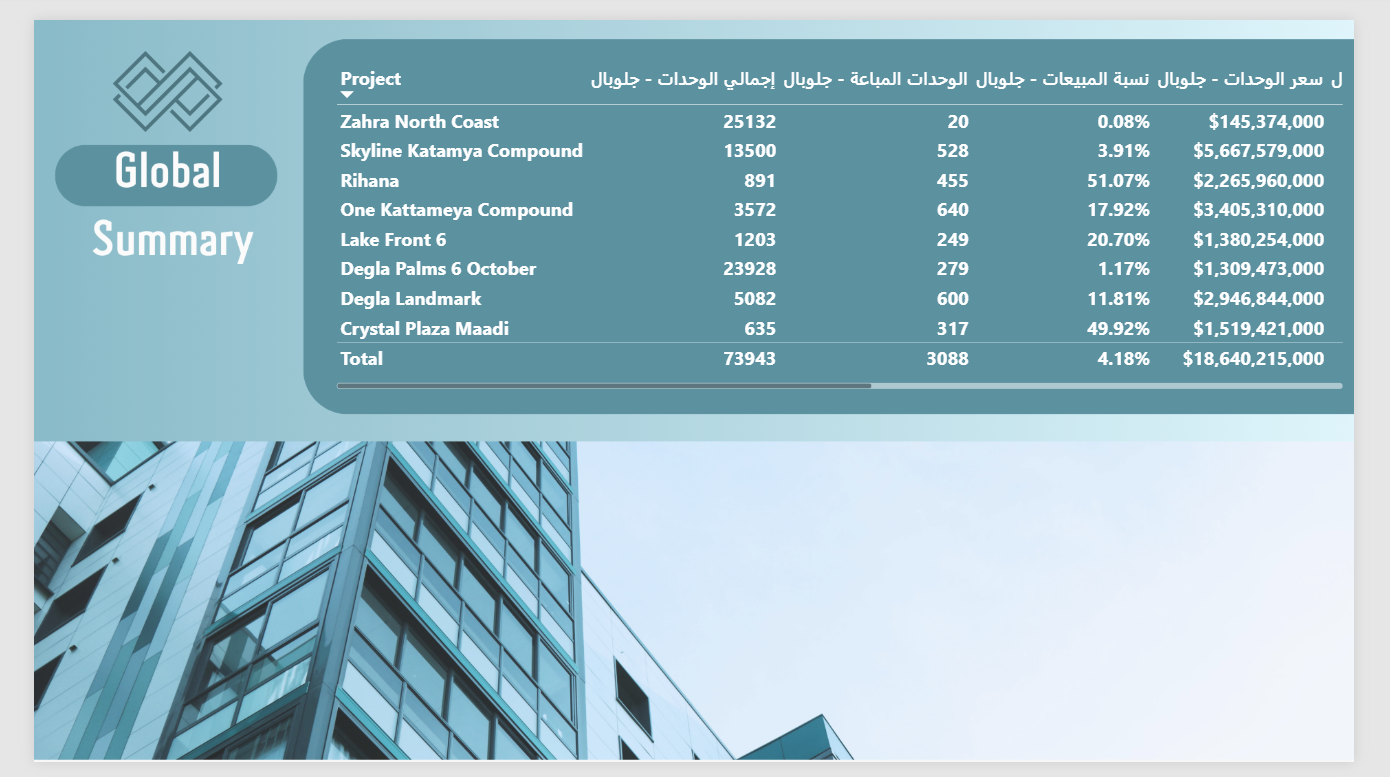

The dashboard page shown, as its layout file describes it:
{"tool":"powerbi","page":{"name":"Global view","canvas":[1920,1080],"ordinal":2},"visuals":[{"type":"tableEx","fields":{"Values":["Projects Name.Project","Measure.إجمالي الوحدات - جلوبال","Measure.الوحدات المباعة - جلوبال","Measure.نسبة المبيعات - جلوبال","Measure.سعر الوحدات - جلوبال","Measure.إجمالي الفواتير - جلوبال","Measure.المبلغ المحصل - جلوبال","Measure.متبقي البنوك - جلوبال","Measure.متبقي الكاش - جلوبال","Measure.المبلغ المتبقي - جلوبال"]},"box":[423.6,45.5,1496.4,507.3],"z":0},{"type":"shape","box":[102,44.9,177.6,116.3],"z":1000}]}

Visuals, with their boxes in screenshot pixels (x1, y1, x2, y2), scaled from the page's 1920x1080 canvas onto the 1390x777 screenshot:
tableEx - Projects Name.Project x Measure.إجمالي الوحدات - جلوبال: (x1=307, y1=33, x2=1389, y2=398)
shape: (x1=74, y1=32, x2=202, y2=116)
